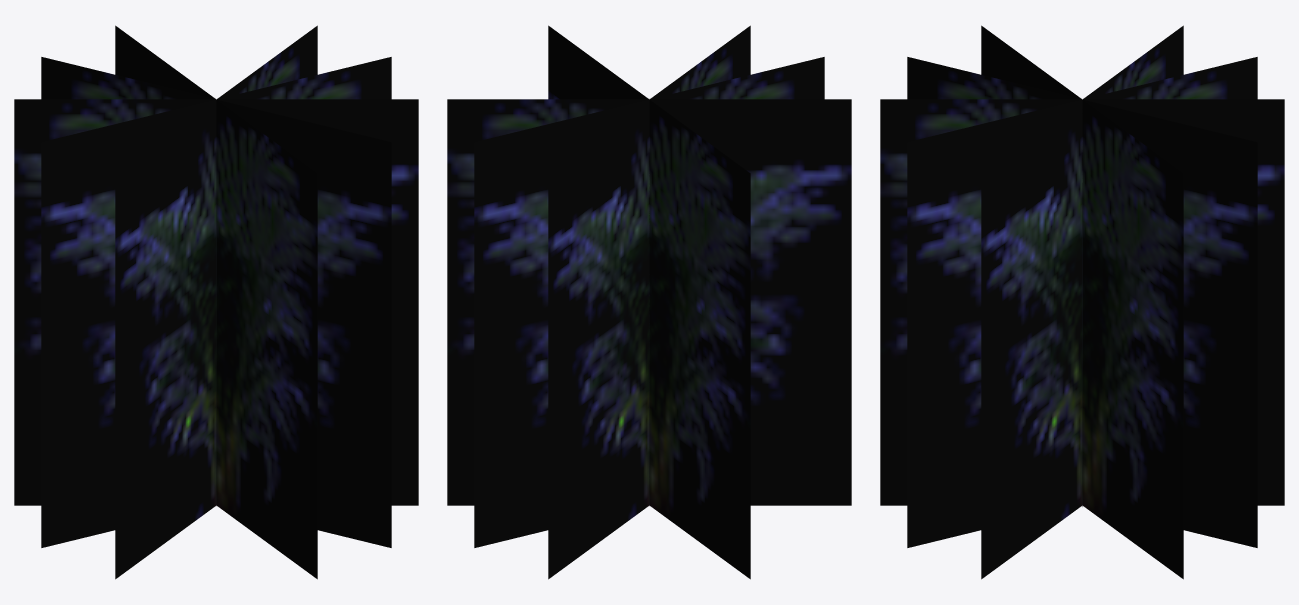
The model's file is kust.fbx.
3 views of the same model, side by side, from view 1: azimuth 30°, elevation 25°; view 2: azimuth 150°, elevation 25°; view 3: azimuth 270°, elevation 25° (orthographic).
Parts seen in each view (by area): view 1: kust.001; view 2: kust.001; view 3: kust.001.
Part boxes in pixels (x1,y1,x2,y2): kust.001: (14, 25, 418, 579); kust.001: (447, 25, 851, 579); kust.001: (880, 25, 1284, 579).
Size of the model in its own units: 62.06 by 68.75 by 62.06.
